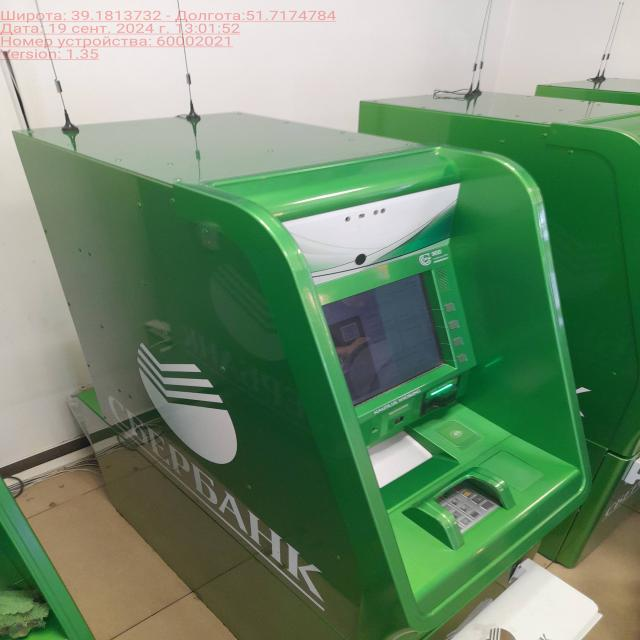bank: (12, 111, 597, 640), (362, 97, 640, 563), (536, 72, 640, 101)
